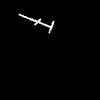double_crochet: (19, 14, 53, 32)
